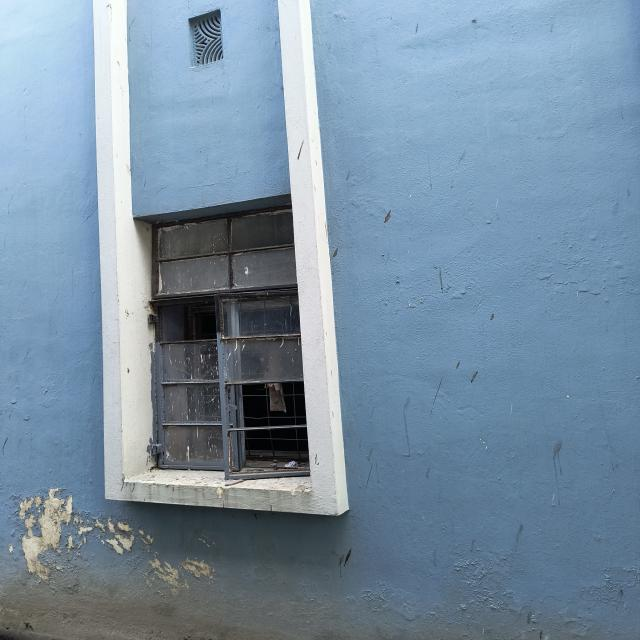Broken window pane: (154, 284, 311, 477), (219, 378, 310, 480)
Paint Peeling: (13, 488, 217, 598)
